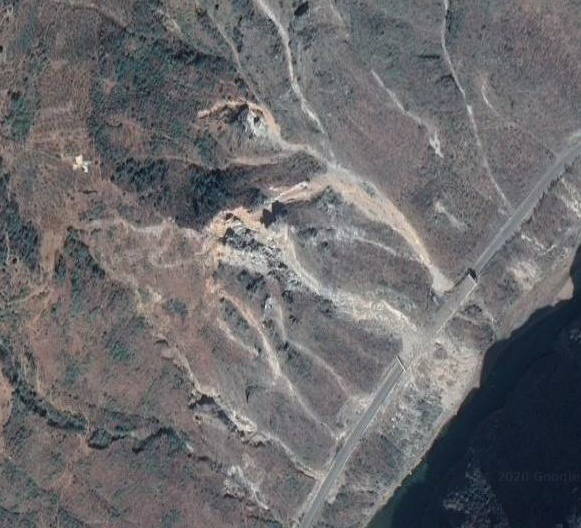slope: (203, 203, 417, 339), (267, 161, 459, 297), (394, 327, 479, 436), (193, 95, 294, 163)
